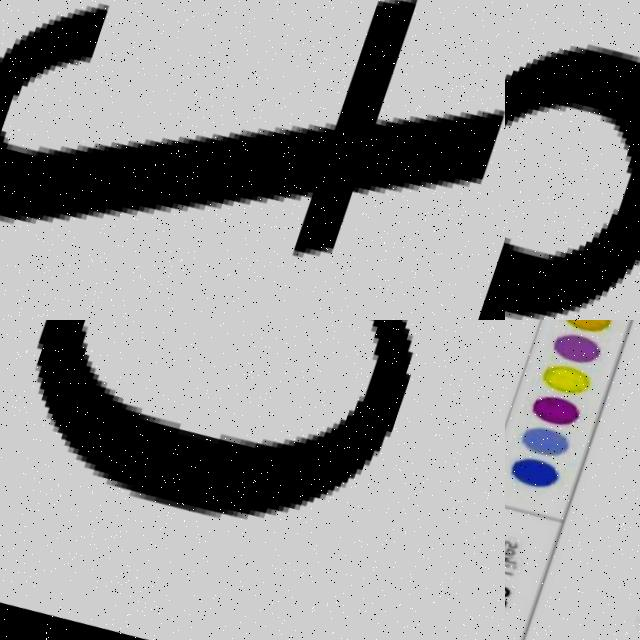2: (505, 591, 512, 614)
8: (505, 0, 640, 320)
9: (505, 581, 515, 603)
D: (0, 320, 505, 636)
T: (0, 0, 505, 320)
